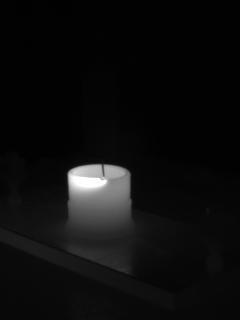tip_wire_left: (86, 154, 105, 179)
tip_wire_right: (102, 151, 116, 179)
